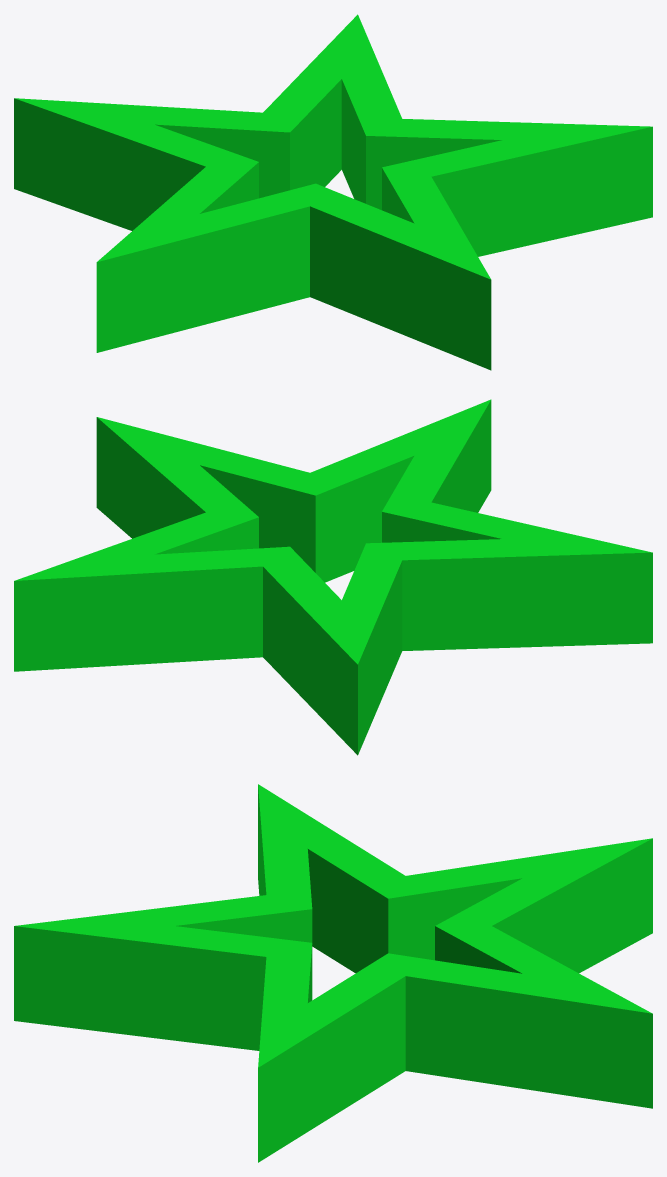
The model's file is Star_raw.fbx.
3 renders of one model, top to bottom at view 1: azimuth 30°, elevation 25°; view 2: azimuth 150°, elevation 25°; view 3: azimuth 270°, elevation 25°, orthographic. The views are drawn at different scales.
Visible parts, largest first — view 1: Circle.001; view 2: Circle.001; view 3: Circle.001.
Boxes of the visible parts, x1=… form: Circle.001: x1=14, y1=14, x2=652, y2=370; Circle.001: x1=14, y1=399, x2=652, y2=755; Circle.001: x1=14, y1=784, x2=652, y2=1162.
Size of the model in its own units: 3493 by 545 by 3322.
